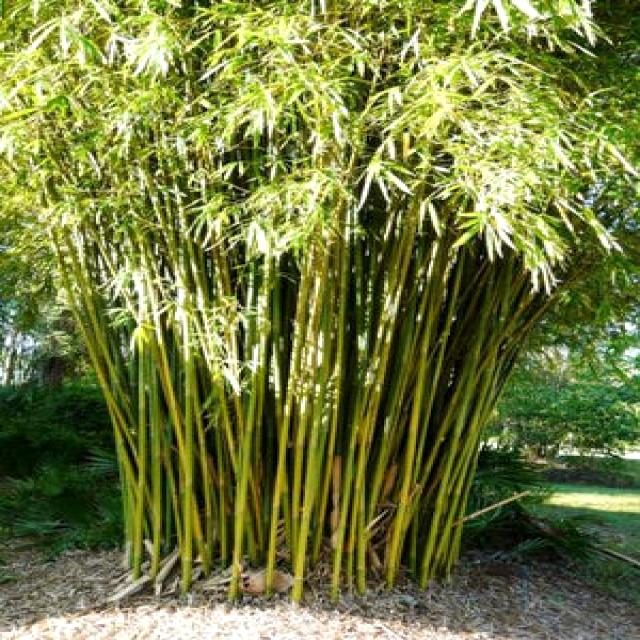Clumping: (55, 0, 568, 600)
